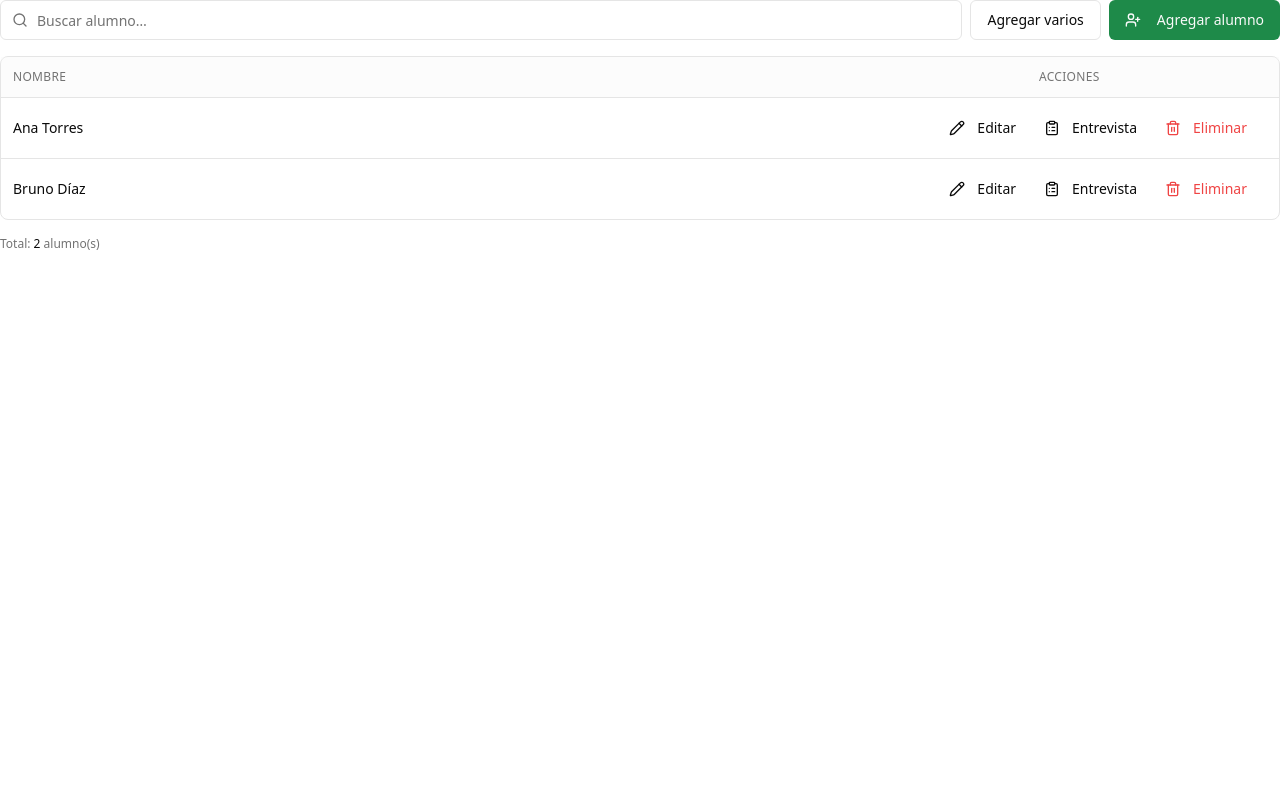
Test case: AlumnosManager — modal de entrevista y botones de alumnos › el botón Entrevista de la fila abre el modal, muestra loading y luego el form
El botón de entrevista por fila existe.
Step 1. Click the button with test id "entrevista-button-alumno-1" → coordinates (1090, 128), box [1032,110,1149,146]
(page scrolled)
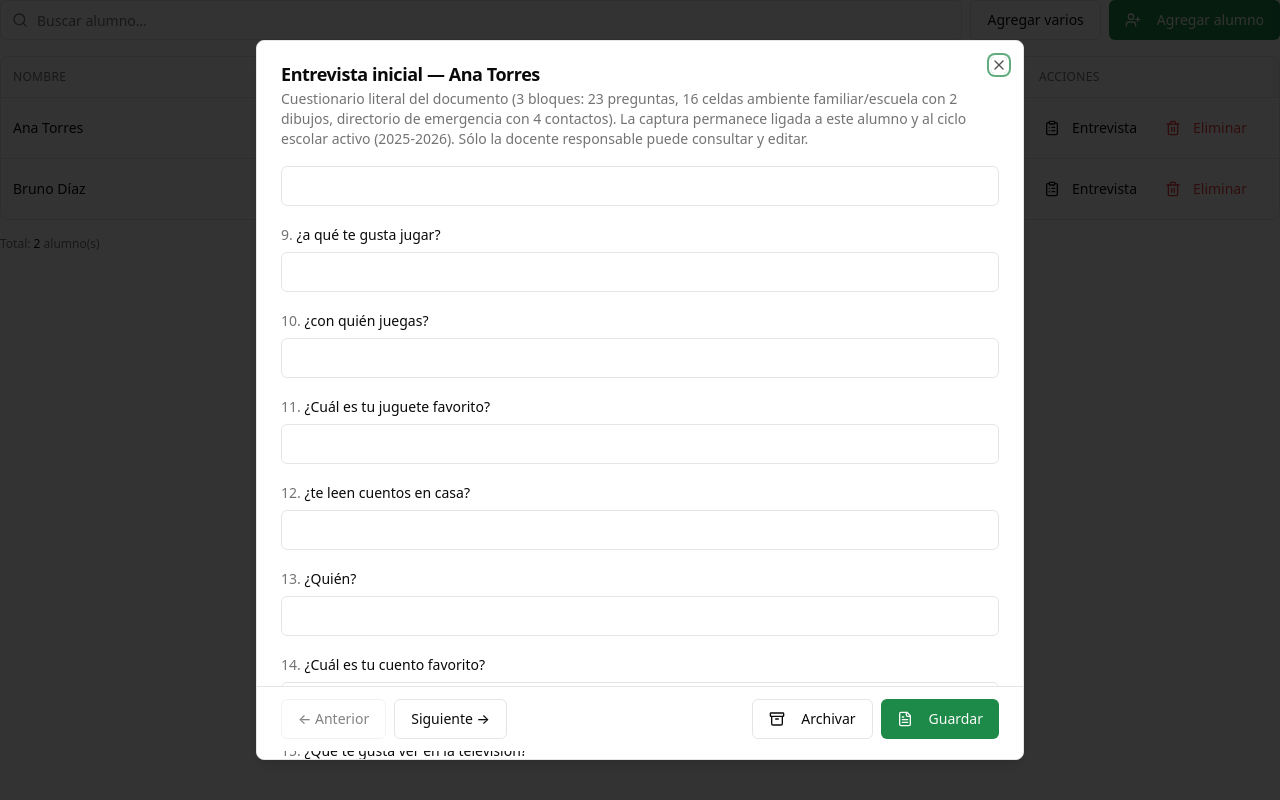
Check: the heading "Entrevista inicial — Ana Torres" is shown, box [281,62,540,86]
